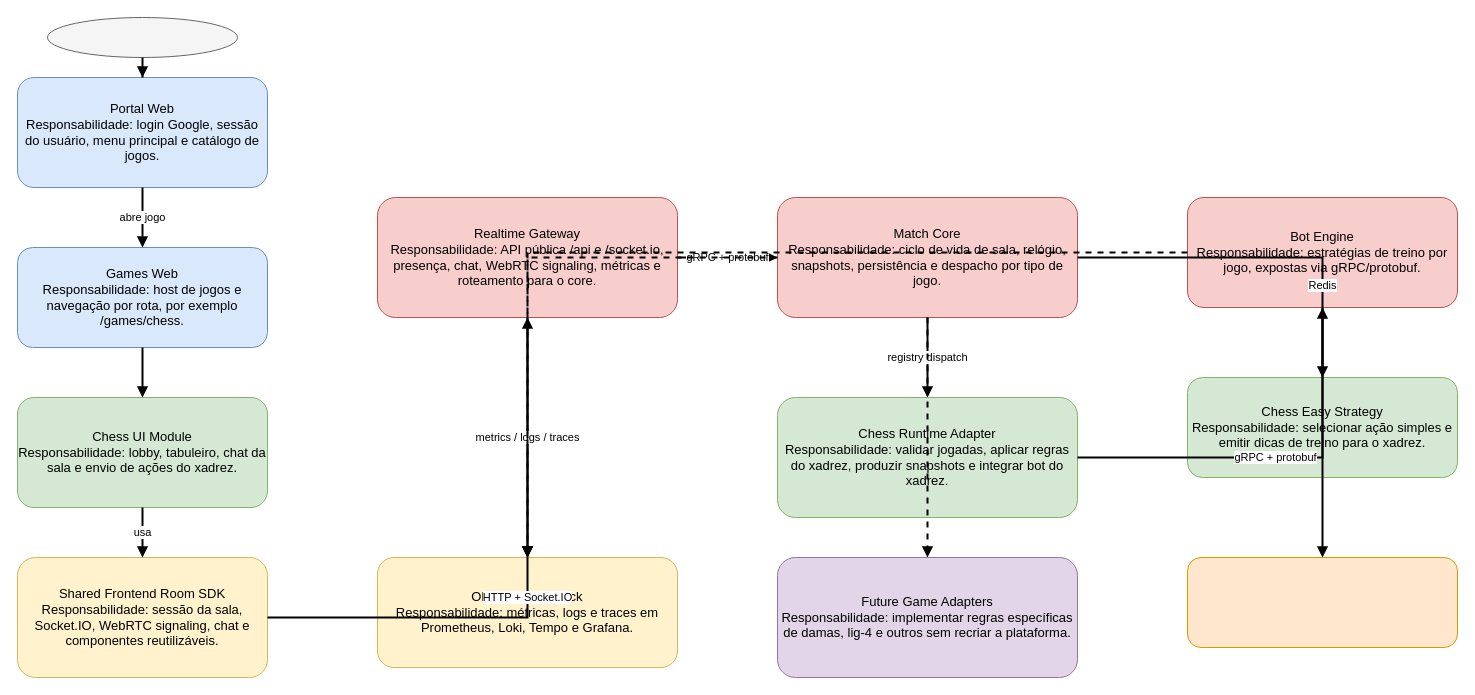
Image size: 1475x695. Some labels were removed from this diagram. The shapes that lost their labels are listed below. From the top down, each one's centre as x and y in pixels, then its label:
At (142,37): "Usuários / Browsers".
At (1322,602): "Redis Responsabilidade: estado efêmero de salas, partidas, relógios e sessões.".
